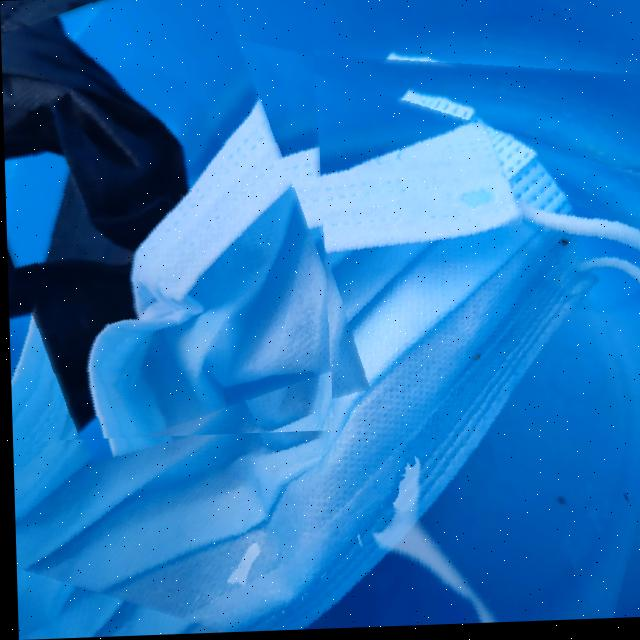mask: (1, 18, 640, 640), (0, 0, 331, 441)
